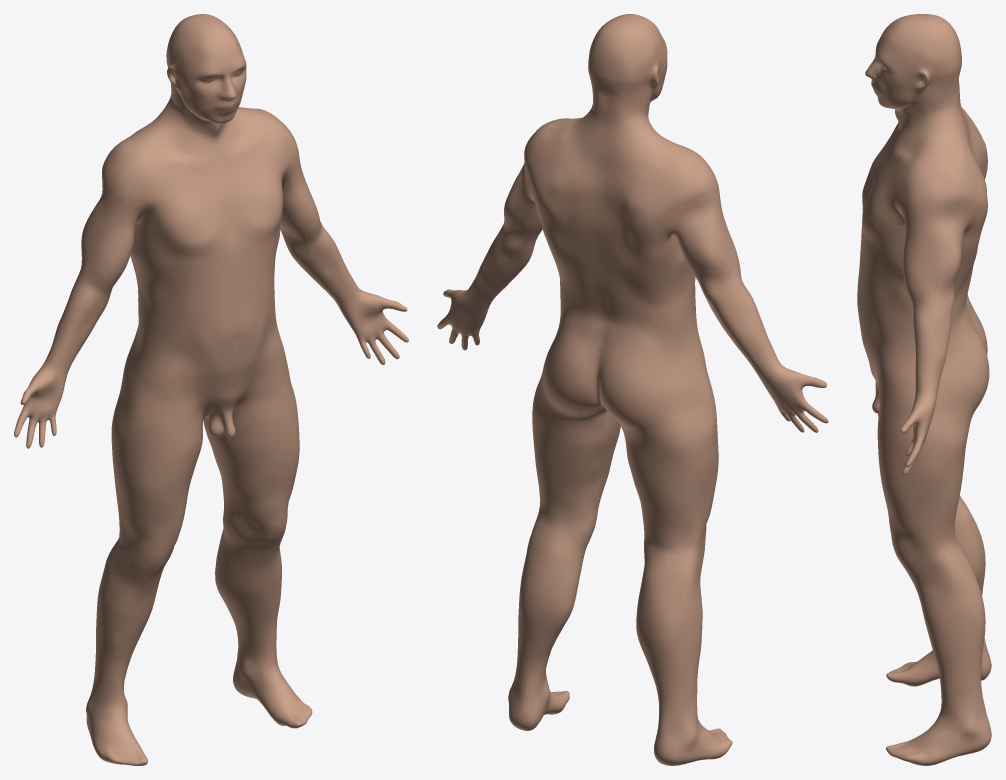
Rendered from human-reference.glb.
3 views of the same model, side by side, from view 1: azimuth 30°, elevation 25°; view 2: azimuth 150°, elevation 25°; view 3: azimuth 270°, elevation 25° (orthographic). The views are drawn at different scales.
Visible parts, largest first — view 1: body; view 2: body; view 3: body.
Part boxes in pixels (<box>): body: <box>14,14,408,765</box>; body: <box>437,14,828,765</box>; body: <box>857,14,991,765</box>.
Size of the model in its own units: 1.05 by 1.83 by 0.3161.
